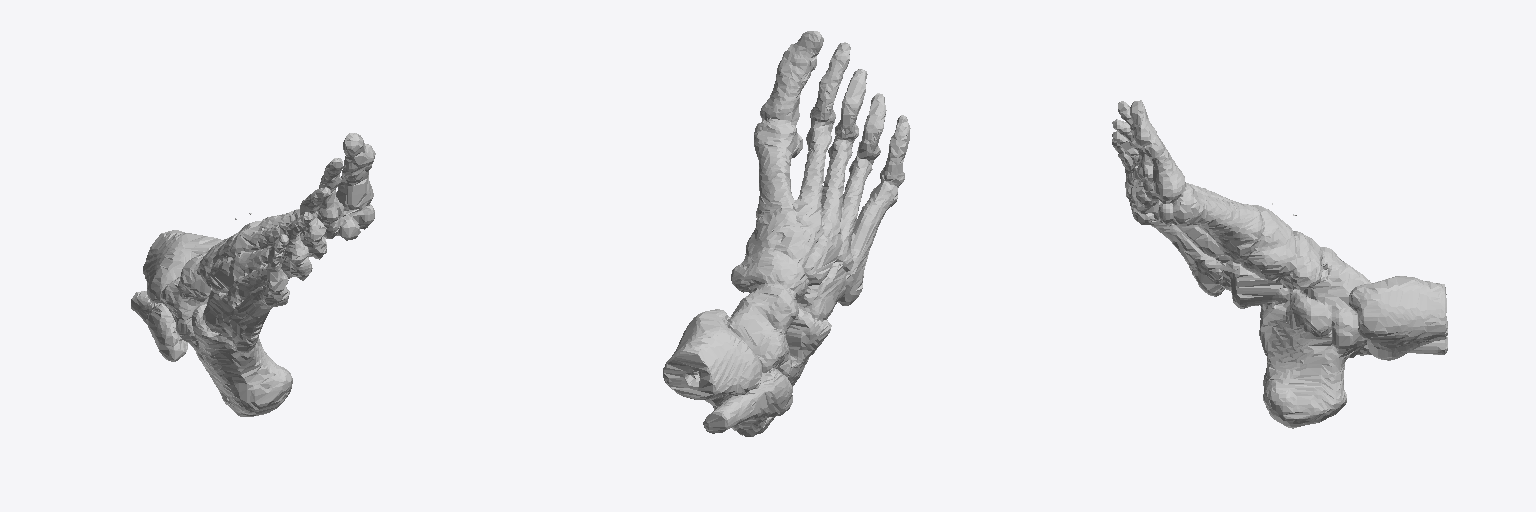
The model's file is foot-scan.obj.
3 views of the same model, side by side, from view 1: azimuth 30°, elevation 25°; view 2: azimuth 150°, elevation 25°; view 3: azimuth 270°, elevation 25° (orthographic).
Bounding box in the file's own units: 81.74 × 210 × 191.